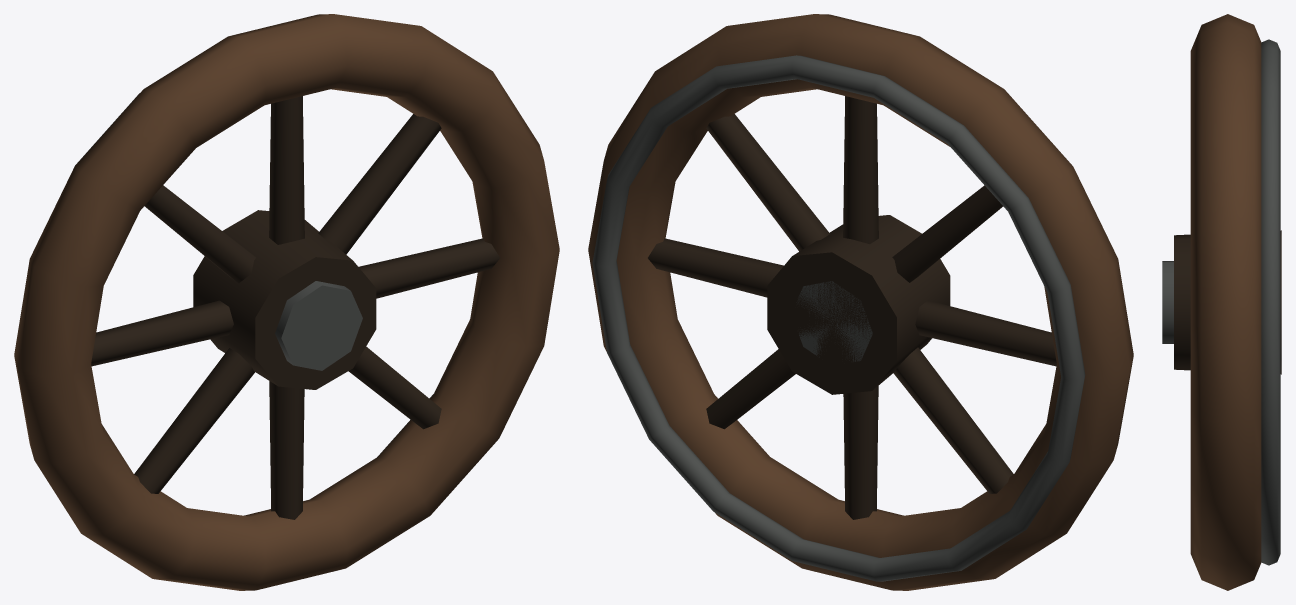
The model's file is sk_wagon_wheel.glb.
The picture shows the model from 3 angles, left to right: view 1: azimuth 30°, elevation 25°; view 2: azimuth 150°, elevation 25°; view 3: azimuth 270°, elevation 25°; orthographic projection. The views are drawn at different scales.
Visible parts, largest first — view 1: wood, metal; view 2: wood, metal; view 3: wood, metal.
Part boxes in pixels (<box>): wood: <box>14,14,559,590</box>; metal: <box>33,93,465,456</box>; wood: <box>588,14,1133,590</box>; metal: <box>592,55,1085,581</box>; wood: <box>1174,14,1281,590</box>; metal: <box>1162,39,1280,565</box>.
Size of the model in its own units: 0.592 by 0.583 by 0.122.
